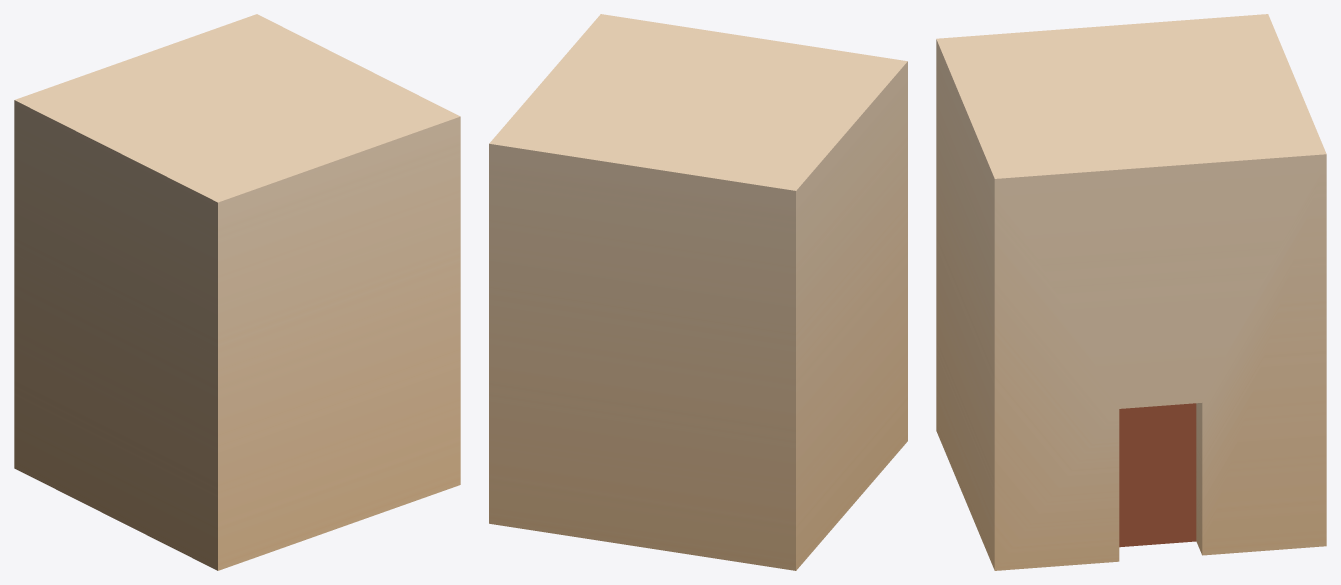
File: Building Tall.fbx
The picture shows the model from 3 angles, left to right: view 1: azimuth 30°, elevation 25°; view 2: azimuth 150°, elevation 25°; view 3: azimuth 270°, elevation 25°; orthographic projection. The views are drawn at different scales.
Visible parts, largest first — view 1: building_door.003; view 2: building_door.003; view 3: building_door.003.
Boxes of the visible parts, <box> form: building_door.003: <box>14,14,460,570</box>; building_door.003: <box>489,14,907,570</box>; building_door.003: <box>936,14,1326,570</box>.
Size of the model in its own units: 811 by 898 by 811.
Materials: 1 (1 with a texture image).
